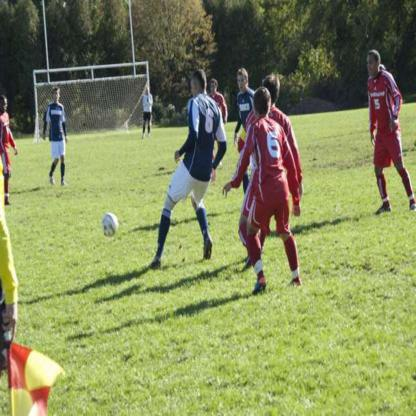face: (368, 57, 378, 76), (239, 76, 247, 92), (1, 100, 8, 114), (54, 91, 60, 103), (211, 84, 217, 95)
